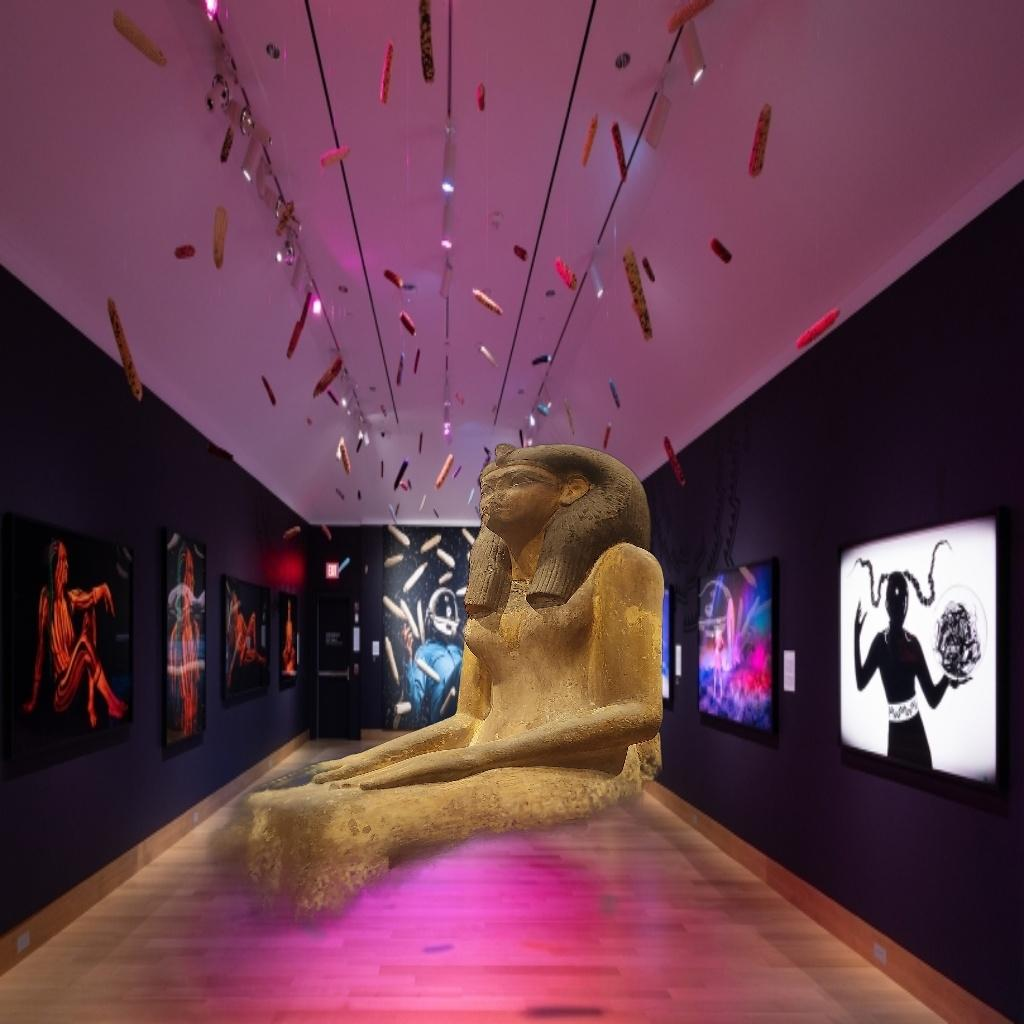Statue of Queen Metnoforet: (190, 436, 708, 1024)
